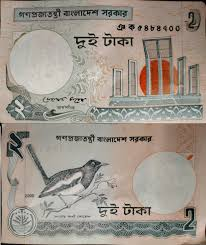2_taka: (6, 7, 202, 120), (8, 132, 199, 238)
